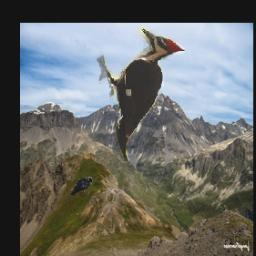Crow: (70, 177, 95, 195)
Woodpecker: (96, 28, 184, 162)
